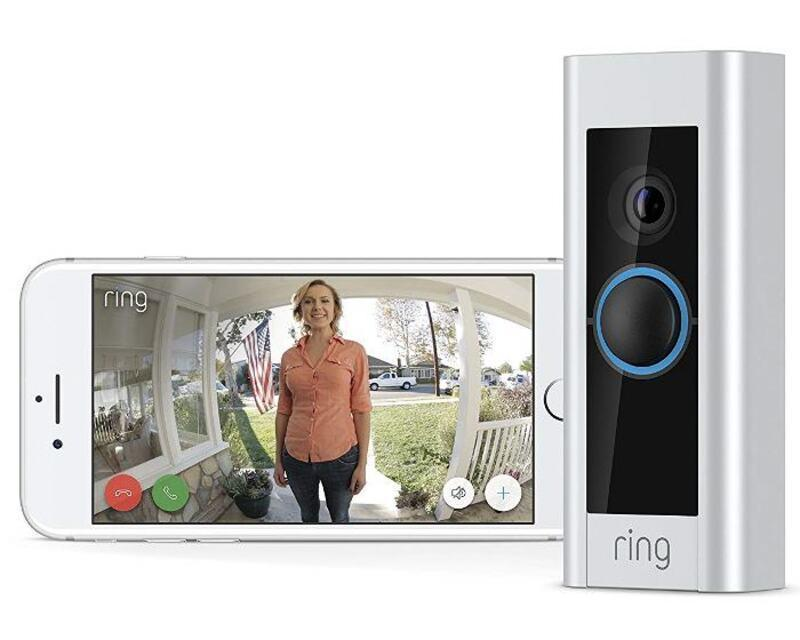doorbell: (550, 39, 796, 601)
